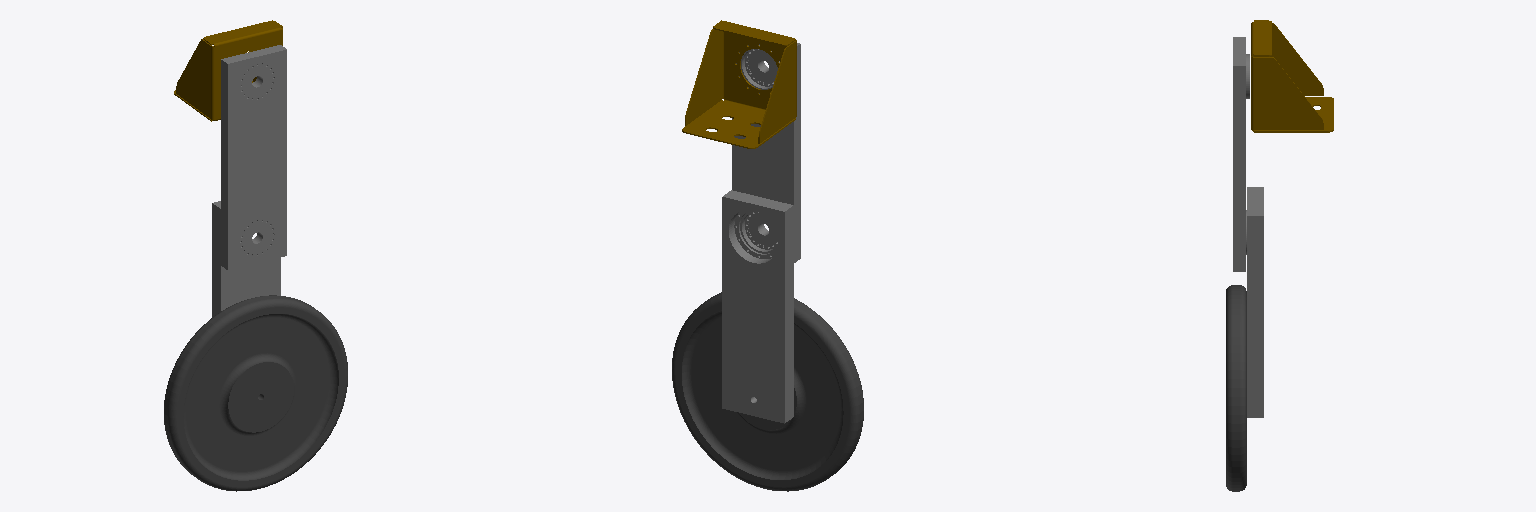
robot.urdf — onshape:
<robot name="onshape">
<mujoco> <compiler fusestatic="false"/> </mujoco>
<link name="base">
<visual>
<origin xyz="-3.1995672897847401109e-16 -0.011036072480300897214 0.061999999999997092159" rpy="-6.1232620554170331445e-17 -1.3270634591222507219e-15 3.141592653589793116" />
<geometry>
<mesh filename="80i_v5.stl"/>
</geometry>
<material name="80i_v5_material">
<color rgba="0.61568627450980395466 0.81176470588235294379 0.92941176470588238168 1.0"/>
</material>
</visual>
<collision>
<origin xyz="-3.1995672897847401109e-16 -0.011036072480300897214 0.061999999999997092159" rpy="-6.1232620554170331445e-17 -1.3270634591222507219e-15 3.141592653589793116" />
<geometry>
<mesh filename="80i_v5.stl"/>
</geometry>
</collision>
<visual>
<origin xyz="-2.6194323913312536696e-16 -0.06093607248030450535 0.0019999999999976260726" rpy="1.1050188541972292746e-15 -6.1232339957368473871e-17 1.570796326794896558" />
<geometry>
<mesh filename="bati_erob80.stl"/>
</geometry>
<material name="bati_erob80_material">
<color rgba="0.47450980392156860699 0.35294117647058825815 0 1.0"/>
</material>
</visual>
<collision>
<origin xyz="-2.6194323913312536696e-16 -0.06093607248030450535 0.0019999999999976260726" rpy="1.1050188541972292746e-15 -6.1232339957368473871e-17 1.570796326794896558" />
<geometry>
<mesh filename="bati_erob80.stl"/>
</geometry>
</collision>
<inertial>
<origin xyz="8.5965635448629487496e-05 -0.028034738804695553266 0.056265374431782338993" rpy="0 0 0"/>
<mass value="2.1622242401867124428" />
<inertia ixx="0.0035409411921381614245" ixy="-1.0515353043570381151e-05"  ixz="-2.7906442063380420255e-06" iyy="0.0039888242306756532471" iyz="0.0005128653511785382247" izz="0.0035605287862095907903" />
</inertial>
</link>

<link name="bras1">
<visual>
<origin xyz="-0.12500000000000002776 3.6112633082917897775e-17 -0.016999999999999987343" rpy="-1.570796326794896558 -5.6920406751767812971e-33 1.9105225048187323569e-31" />
<geometry>
<mesh filename="bras1.stl"/>
</geometry>
<material name="bras1_material">
<color rgba="0.50196078431372548323 0.50196078431372548323 0.50196078431372548323 1.0"/>
</material>
</visual>
<collision>
<origin xyz="-0.12500000000000002776 3.6112633082917897775e-17 -0.016999999999999987343" rpy="-1.570796326794896558 -5.6920406751767812971e-33 1.9105225048187323569e-31" />
<geometry>
<mesh filename="bras1.stl"/>
</geometry>
</collision>
<inertial>
<origin xyz="-0.12500000000000002776 3.0283764591525292563e-17 -0.0075053453515004277946" rpy="0 0 0"/>
<mass value="1.6401618924870369209" />
<inertia ixx="0.0014573357440108673788" ixy="7.6494749519212727476e-33"  ixz="2.5929189483419927677e-35" iyy="0.014585620314120823632" iyz="1.0671161822730828223e-39" izz="0.015941817470486979724" />
</inertial>
</link>

<link name="segment2">
<visual>
<origin xyz="-1.3720819860076984538e-23 0 -0.027500000000004548584" rpy="-1.570796326794896558 4.3011950331735847137e-22 3.1415926535897926719" />
<geometry>
<mesh filename="bras2.stl"/>
</geometry>
<material name="bras2_material">
<color rgba="0.50196078431372548323 0.50196078431372548323 0.50196078431372548323 1.0"/>
</material>
</visual>
<collision>
<origin xyz="-1.3720819860076984538e-23 0 -0.027500000000004548584" rpy="-1.570796326794896558 4.3011950331735847137e-22 3.1415926535897926719" />
<geometry>
<mesh filename="bras2.stl"/>
</geometry>
</collision>
<visual>
<origin xyz="-2.4651903288156618919e-32 0 -0.059400000000008001955" rpy="1.570796326794896558 3.8947973516099456757e-38 3.6977854932234928379e-32" />
<geometry>
<mesh filename="80i_v5.stl"/>
</geometry>
<material name="80i_v5_material">
<color rgba="0.61568627450980395466 0.81176470588235294379 0.92941176470588238168 1.0"/>
</material>
</visual>
<collision>
<origin xyz="-2.4651903288156618919e-32 0 -0.059400000000008001955" rpy="1.570796326794896558 3.8947973516099456757e-38 3.6977854932234928379e-32" />
<geometry>
<mesh filename="80i_v5.stl"/>
</geometry>
</collision>
<visual>
<origin xyz="-3.0184188855770821741e-15 0.24999999999997304934 0.027499999999995250466" rpy="-3.1415926535897615857 -1.1129985391747538395e-14 3.1415926535897926719" />
<geometry>
<mesh filename="weight.stl"/>
</geometry>
<material name="weight_material">
<color rgba="0.30196078431372547213 0.30196078431372547213 0.30196078431372547213 1.0"/>
</material>
</visual>
<collision>
<origin xyz="-3.0184188855770821741e-15 0.24999999999997304934 0.027499999999995250466" rpy="-3.1415926535897615857 -1.1129985391747538395e-14 3.1415926535897926719" />
<geometry>
<mesh filename="weight.stl"/>
</geometry>
</collision>
<inertial>
<origin xyz="-1.4457205374984948181e-05 0.20443246054269068046 0.0023847587657958697026" rpy="0 0 0"/>
<mass value="12.857047818015505669" />
<inertia ixx="0.16793351668194522741" ixy="-3.9723997859661720213e-05"  ixz="-1.8840056687060193071e-05" iyy="0.064620563529158903116" iyz="-0.01983703796319074078" izz="0.2212259730717880124" />
</inertial>
</link>

<link name="end">
<inertial>
<origin xyz="0 0 0" rpy="0 0 0" />
<mass value="1e-9" />
<inertia ixx="0" ixy="0" ixz="0" iyy="0" iyz="0" izz="0" />
</inertial>
</link>
<joint name="end_frame" type="fixed">
<origin xyz="-2.9837244171328454876e-15 0.24999999999997310485 0.029999999999995238809" rpy="-1.1131317589294916161e-14 -3.1469101278800327038e-14 -1.5707963267948970021" />
<parent link="segment2" />
<child link="end" />
<axis xyz="0 0 0"/>
</joint>

<joint name="r2" type="revolute">
<origin xyz="-0.25000000000000005551 4.305149412567801521e-17 1.3877787807814456755e-17" rpy="-3.141592653589793116 -5.0387059551511362915e-28 -1.5707963267949036634" />
<parent link="bras1" />
<child link="segment2" />
<axis xyz="0 0 1"/>
<limit effort="1" velocity="20" />
<joint_properties friction="0.0"/>
</joint>

<joint name="r1" type="revolute">
<origin xyz="-4.3051519674790368049e-17 -0.070436072480308878352 0.061999999999999430567" rpy="-1.570796326794896558 -1.5707963267948954478 0" />
<parent link="base" />
<child link="bras1" />
<axis xyz="0 0 1"/>
<limit effort="1" velocity="20" />
<joint_properties friction="0.0"/>
</joint>


</robot>

--- Render facts (derived) ---
3 views of the same robot in one strip: view 1: azimuth 30°, elevation 25°; view 2: azimuth 150°, elevation 25°; view 3: azimuth 270°, elevation 25° (orthographic).
Model onshape with 4 links and 3 joints (2 revolute, 1 fixed), rooted at base, posed all joints at 0.
Links seen in each view (by area): view 1: segment2, bras1, base; view 2: segment2, base, bras1; view 3: segment2, base, bras1.
Link boxes in pixels (x1,y1,x2,y2): segment2: (164, 201, 347, 491); bras1: (221, 45, 286, 269); base: (174, 20, 282, 121); segment2: (672, 190, 863, 491); base: (682, 20, 796, 148); bras1: (732, 43, 800, 262); segment2: (1226, 187, 1263, 491); base: (1251, 20, 1333, 132); bras1: (1233, 37, 1249, 271).
Bounding box of the posed robot: 0.3 × 0.157 × 0.712 m (x, y, z).
4 mesh visuals loaded from 5 distinct referenced files (4 binary STL); not drawn: 2 (reference not matched to a file when rendering).